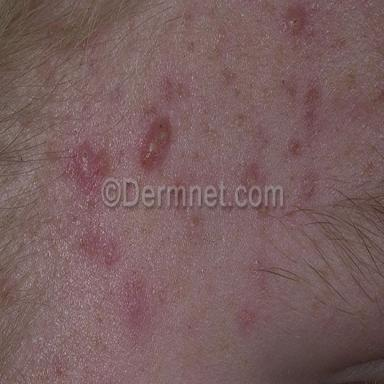acne: (67, 141, 110, 201), (118, 267, 150, 334), (140, 117, 173, 170), (283, 6, 306, 35), (102, 237, 119, 265)
